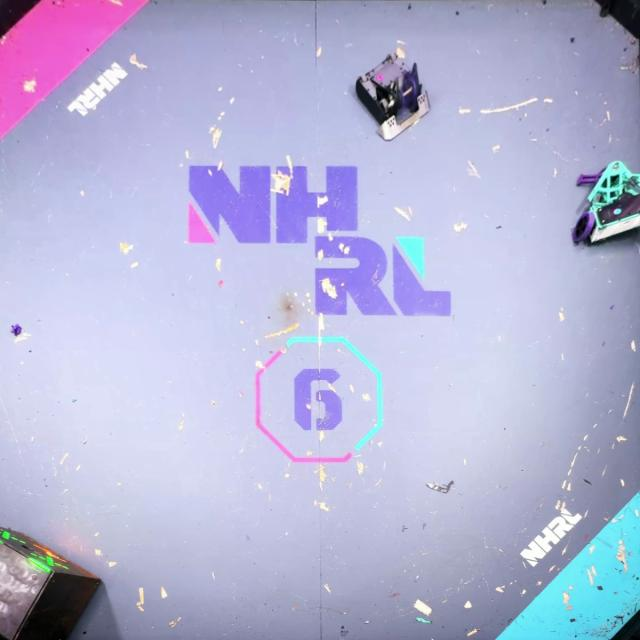housebot: (0, 524, 106, 640)
robot: (352, 51, 432, 140), (570, 158, 640, 245)
